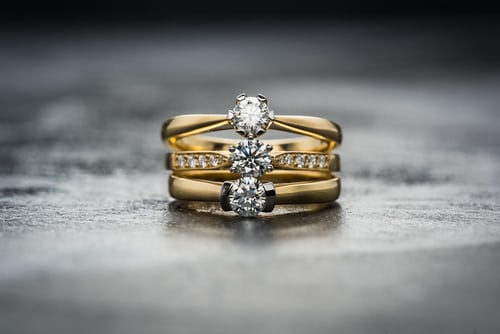ring: (146, 97, 371, 214)
